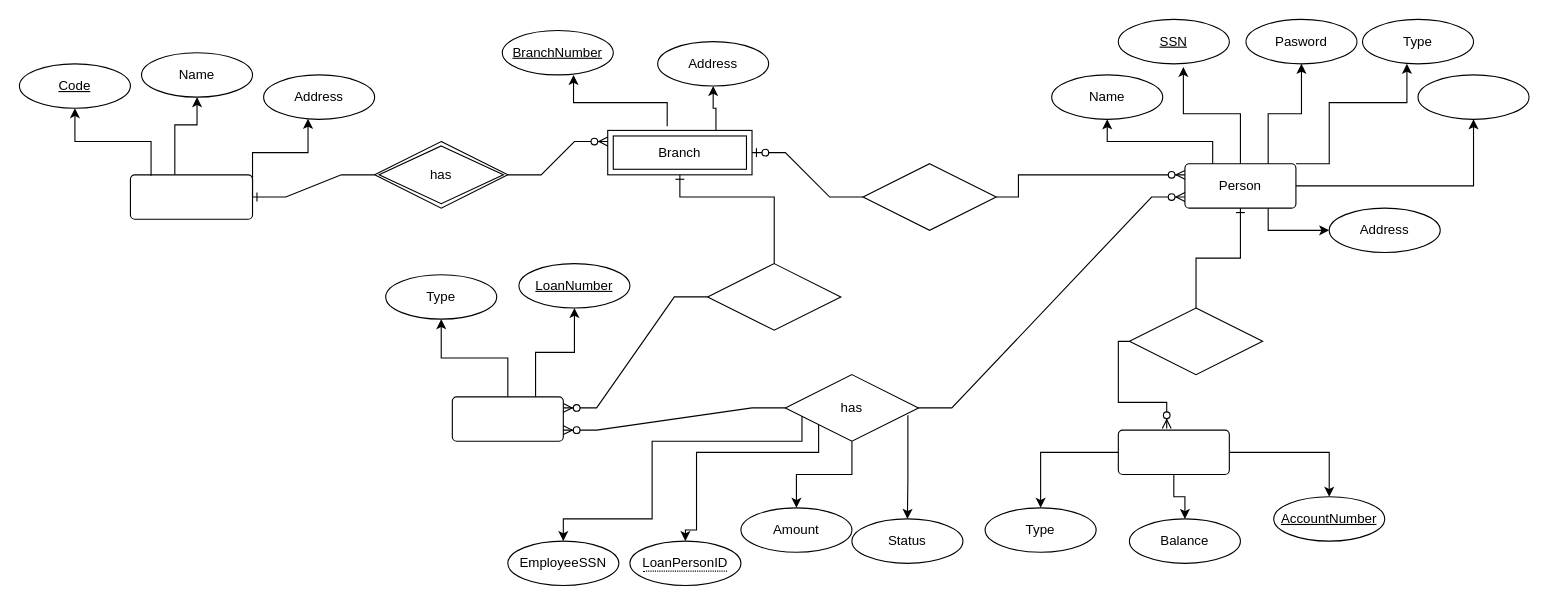
Image size: 1548x605. Some labels were removed from this diagram. Here are the shapes that lost their labels. From the top down, the centre of each, then its label:
(x=1473, y=96): Phone
(x=191, y=196): Bank
(x=929, y=196): Registered
(x=774, y=296): Offers
(x=1195, y=341): Owns
(x=507, y=418): Loan
(x=1173, y=452): Account
